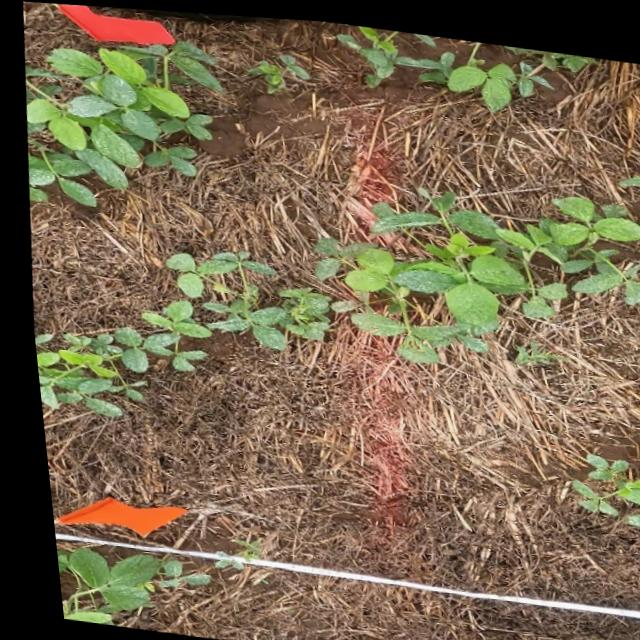caruru_weed: (505, 335, 558, 357)
soy_plant: (137, 183, 640, 368), (23, 40, 218, 204), (337, 20, 591, 104), (45, 547, 195, 624), (27, 331, 141, 414), (561, 447, 640, 516), (248, 50, 305, 88), (219, 535, 250, 556), (619, 166, 640, 177)
